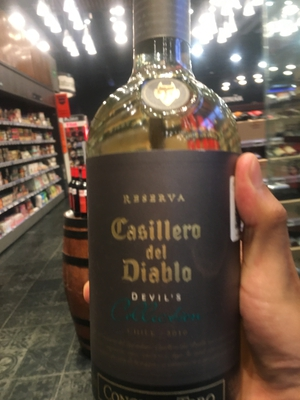casillero del diablo devils collection verde: (66, 13, 249, 368)
